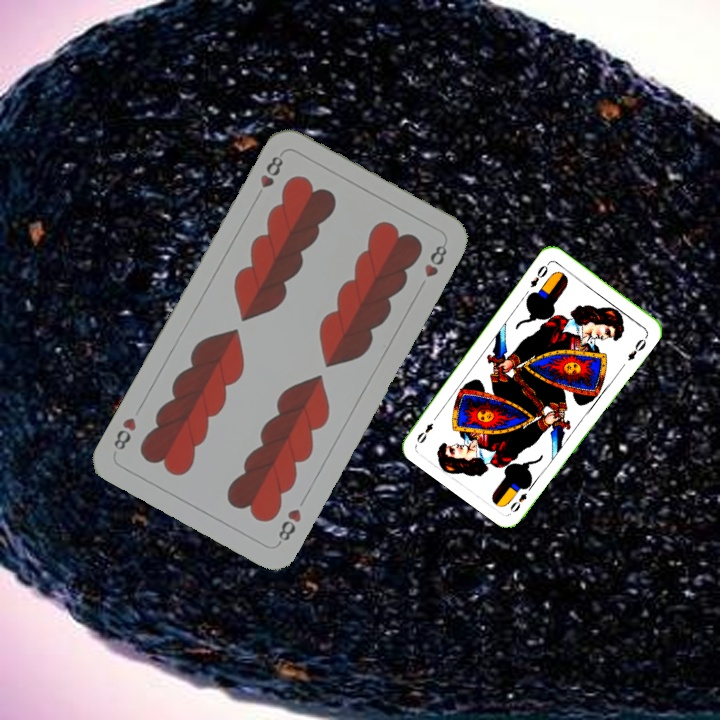EO: (526, 258, 552, 291), (506, 489, 530, 515)
H8: (273, 504, 304, 547), (256, 150, 286, 191)
